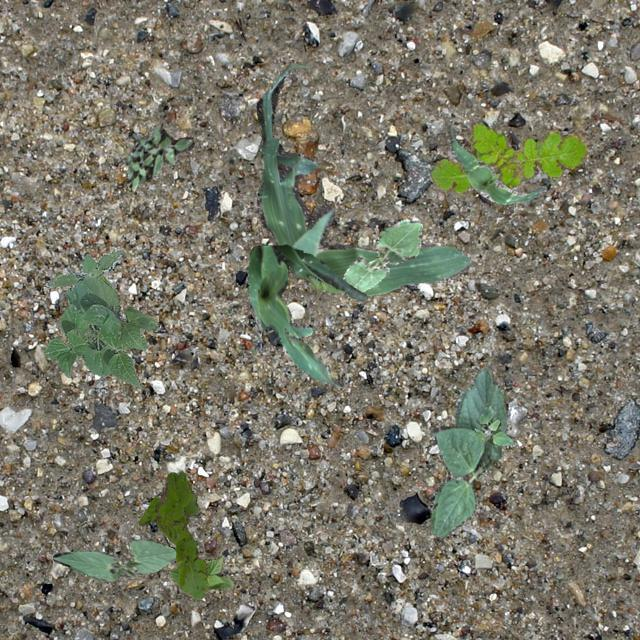crop: (256, 58, 468, 294), (246, 244, 366, 388), (429, 366, 506, 536), (44, 276, 158, 388), (446, 122, 546, 204), (342, 216, 422, 292), (51, 538, 176, 582), (168, 556, 232, 590)
weed: (429, 122, 586, 192), (138, 469, 206, 598), (125, 122, 193, 190), (44, 248, 122, 286), (474, 400, 512, 444)
